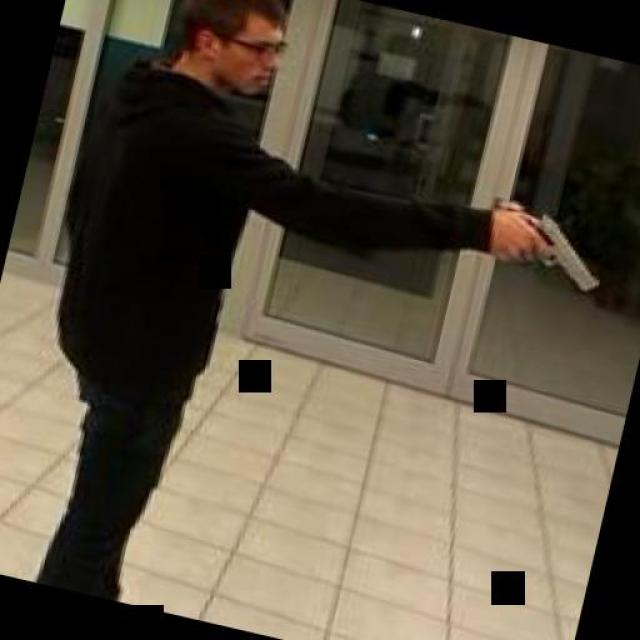gun: (496, 204, 609, 294)
